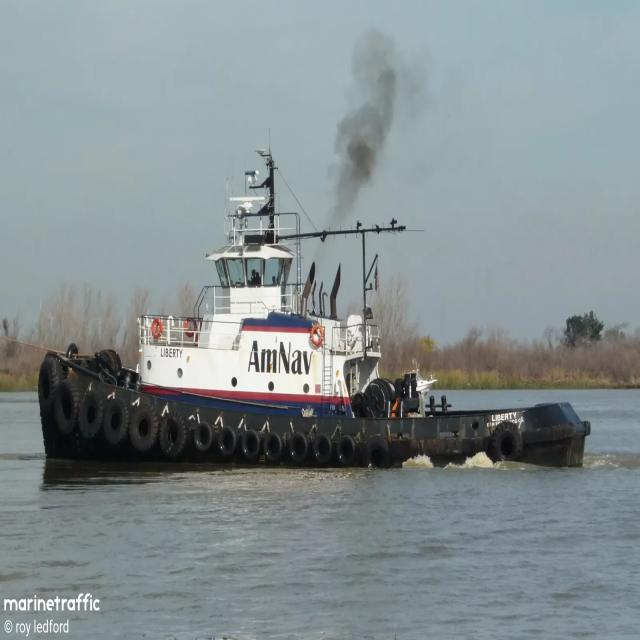Tug: (38, 150, 590, 467)
